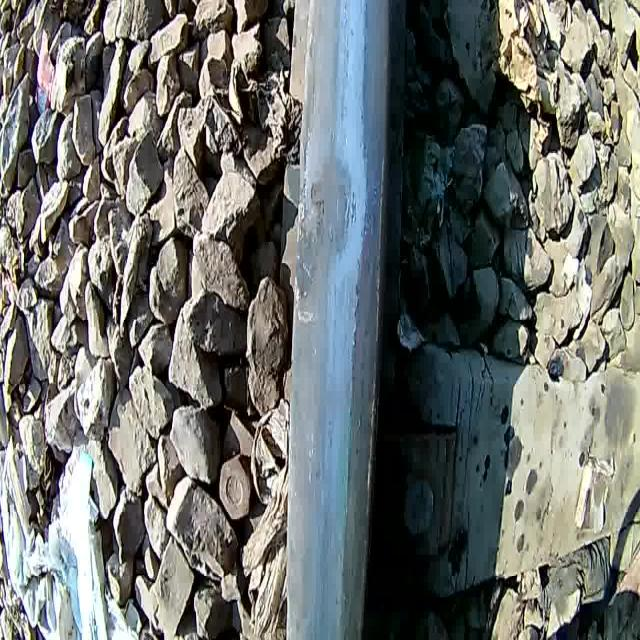Squats: (304, 150, 361, 265)
